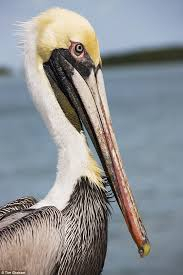pelican: (1, 7, 148, 275)
